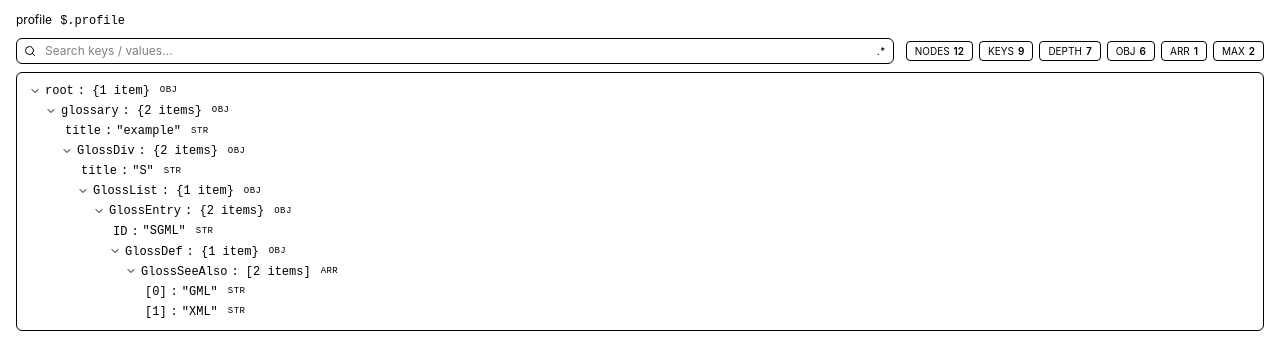
it: DocumentTreePanel › filters by leaf value substring and keeps ancestors visible
Type "SGML" into the field with test id "document-tree-search" at (455, 51), box left=16, top=38, right=894, bottom=64
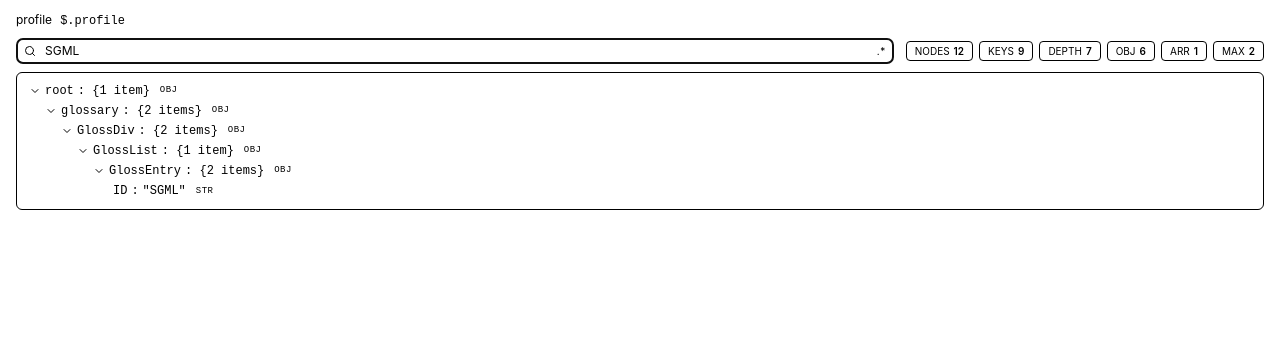
Check: the list item with test id "tree-node-__root" is shown, box left=29, top=84, right=177, bottom=98
Check: the list item with test id "tree-node-glossary.title" is gone
